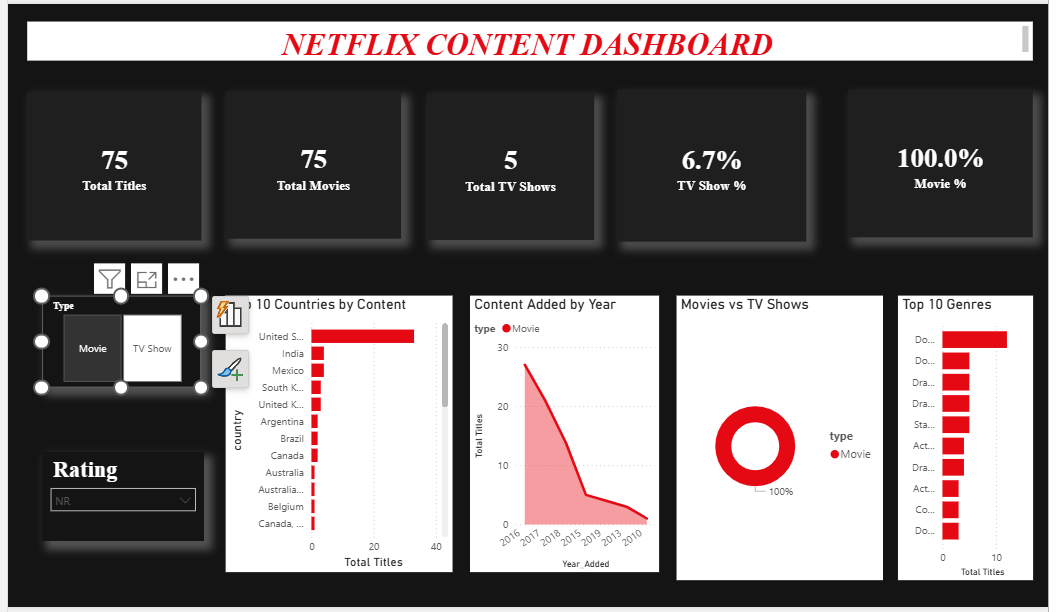

This screenshot's page, from the dashboard's own definition file:
{"tool":"powerbi","page":{"name":"Page 1","canvas":[1280,720],"ordinal":0},"visuals":[{"type":"card","fields":{"Values":["netflix_titles.Total Titles"]},"box":[51.6,104.8,208.1,177.4],"z":0},{"type":"card","fields":{"Values":["netflix_titles.Total Movies"]},"box":[288.7,104.8,209.7,175.8],"z":1000},{"type":"card","fields":{"Values":["netflix_titles.Total TV Shows"]},"box":[529,106.5,200,175.8],"z":2000},{"type":"card","fields":{"Values":["netflix_titles.Movie %"]},"box":[1032.3,103.2,221,175.8],"z":3000},{"type":"card","fields":{"Values":["netflix_titles.TV Show %"]},"box":[756.5,103.2,225.8,180.6],"z":4000},{"type":"textbox","box":[51.6,21,1201.6,46.8],"z":5000},{"type":"slicer","fields":{"Values":["netflix_titles.type"]},"box":[69.4,348.4,190.3,109.7],"z":6000},{"type":"slicer","fields":{"Values":["netflix_titles.rating"]},"box":[69.4,535.5,193.5,106.5],"z":7000},{"type":"areaChart","title":"Content Added by Year","fields":{"Category":["netflix_titles.Year_Added"],"Series":["netflix_titles.type"],"Y":["netflix_titles.Total Titles"]},"box":[580.6,348.4,225.8,330.6],"z":8000},{"type":"barChart","title":"Top 10 Countries by Content","fields":{"Category":["netflix_titles.country"],"Y":["netflix_titles.Total Titles"]},"box":[288.7,348.4,271,330.6],"z":9000},{"type":"donutChart","title":"Movies vs TV Shows","fields":{"Category":["netflix_titles.type"],"Y":["netflix_titles.Total Titles"]},"box":[827.4,348.4,246.8,340.3],"z":10000},{"type":"clusteredBarChart","title":"Top 10 Genres","fields":{"Category":["netflix_titles.listed_in"],"Y":["netflix_titles.Total Titles"]},"box":[1091.9,348.4,161.3,340.3],"z":11000}]}

Visuals, with their boxes in screenshot pixels (x1, y1, x2, y2), scaled from the page's 1280x720 canvas onto the 1056x612 screenshot:
card - netflix_titles.Total Titles: box=[43, 89, 214, 240]
card - netflix_titles.Total Movies: box=[238, 89, 411, 239]
card - netflix_titles.Total TV Shows: box=[436, 91, 601, 240]
card - netflix_titles.Movie %: box=[852, 88, 1034, 237]
card - netflix_titles.TV Show %: box=[624, 88, 810, 241]
textbox: box=[43, 18, 1034, 58]
slicer - netflix_titles.type: box=[57, 296, 214, 389]
slicer - netflix_titles.rating: box=[57, 455, 217, 546]
"Content Added by Year" areaChart: box=[479, 296, 665, 577]
"Top 10 Countries by Content" barChart: box=[238, 296, 462, 577]
"Movies vs TV Shows" donutChart: box=[683, 296, 886, 585]
"Top 10 Genres" clusteredBarChart: box=[901, 296, 1034, 585]
